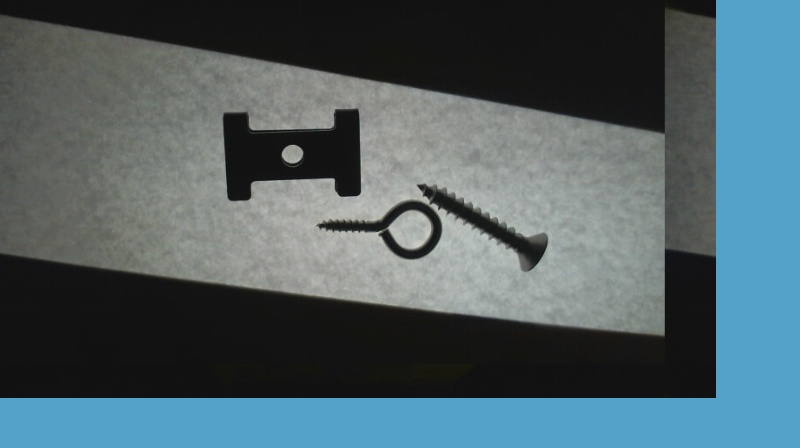O001: (312, 197, 444, 262)
O002: (218, 105, 364, 202)
S001: (411, 180, 550, 274)
